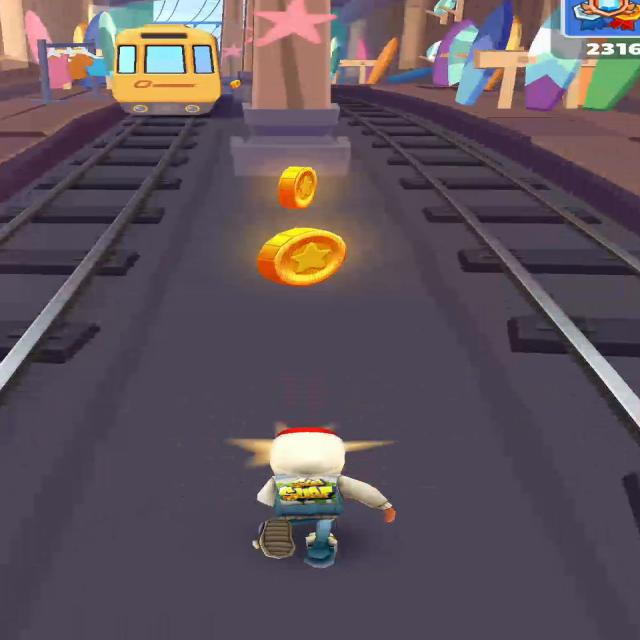train: (231, 0, 350, 175), (113, 24, 223, 115)
